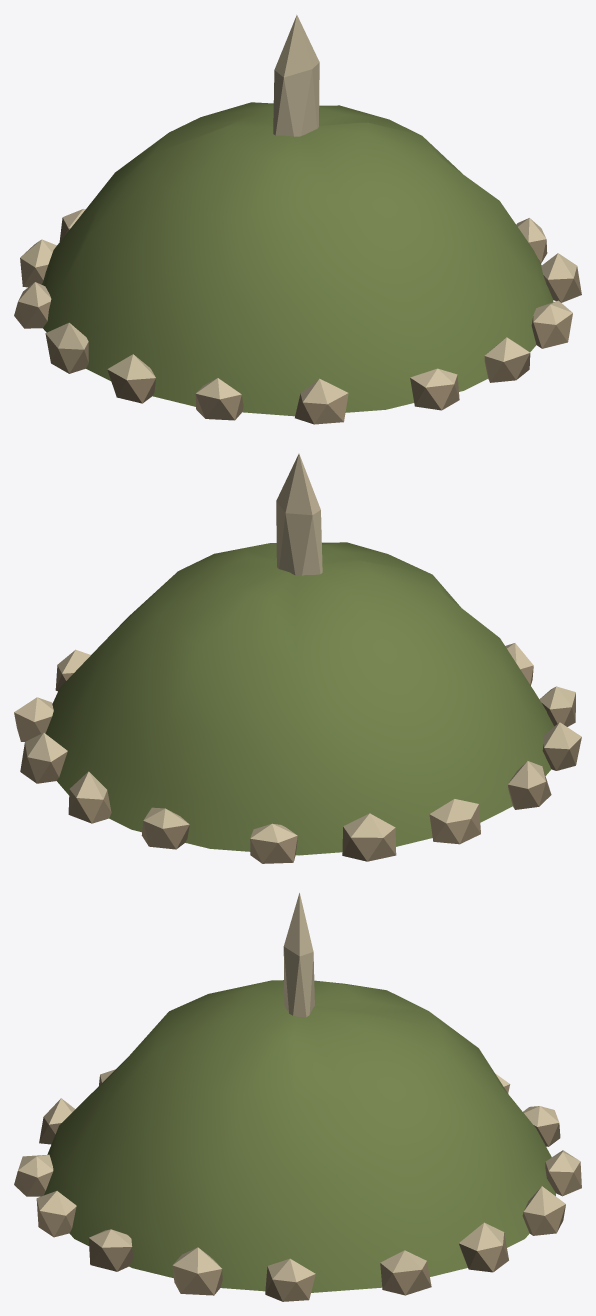
Rendered from tumulus.glb.
The picture shows the model from 3 angles, top to bottom: view 1: azimuth 30°, elevation 25°; view 2: azimuth 150°, elevation 25°; view 3: azimuth 270°, elevation 25°; orthographic projection.
Parts seen in each view (by area): view 1: tumulus; view 2: tumulus; view 3: tumulus.
Boxes of the visible parts, x1=… form: tumulus: x1=14, y1=15, x2=581, y2=424; tumulus: x1=14, y1=453, x2=581, y2=863; tumulus: x1=14, y1=893, x2=581, y2=1301.
Bounding box in the file's own units: 0.9694 × 0.5567 × 0.982.
